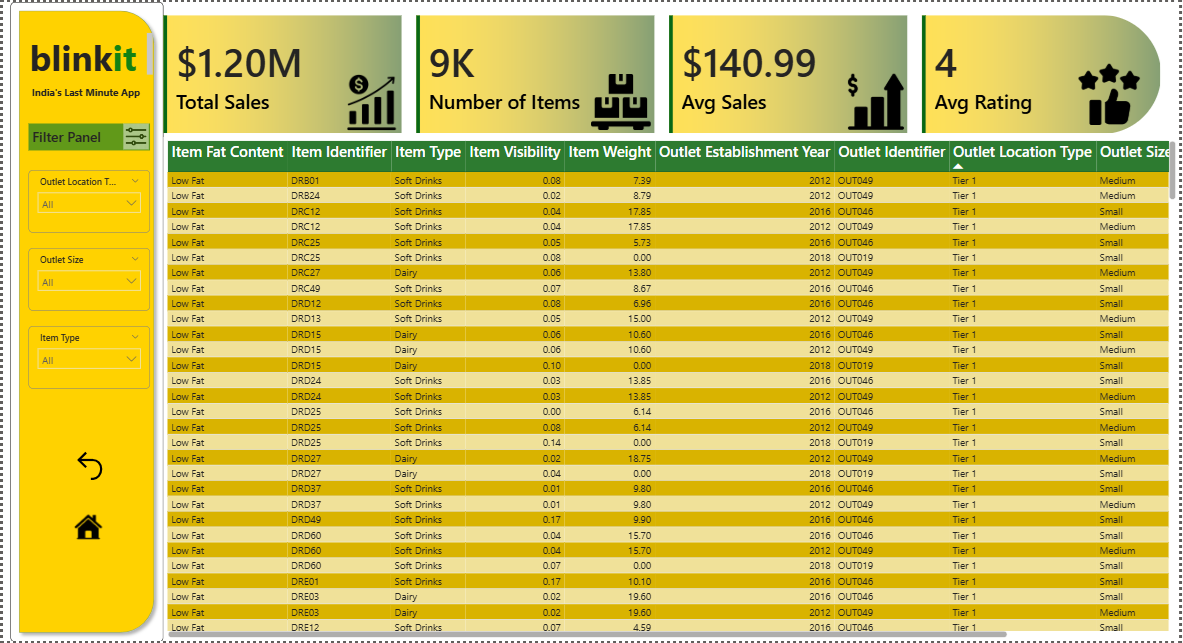

This screenshot's page, from the dashboard's own definition file:
{"tool":"powerbi","page":{"name":"Page 2","canvas":[1600,870],"ordinal":1},"visuals":[{"type":"shape","box":[9.8,0,207.8,870.6],"z":0},{"type":"textbox","box":[17.6,37.3,190.2,70.6],"z":1000},{"type":"textbox","box":[27.5,107.8,172.5,39.2],"z":2000},{"type":"slicer","fields":{"Values":["BlinkIT Grocery Data.Outlet Location Type"]},"box":[35,228.3,165,85],"z":3000},{"type":"slicer","fields":{"Values":["BlinkIT Grocery Data.Outlet Size"]},"box":[35,335,165,85],"z":4000},{"type":"slicer","fields":{"Values":["BlinkIT Grocery Data.Item Type"]},"box":[35,441.7,165,85],"z":5000},{"type":"textbox","box":[35,165,165,36.7],"z":6000},{"type":"image","box":[151.7,165,60,35],"z":7000},{"type":"actionButton","box":[64.8,605.6,105.6,50],"z":8000},{"type":"actionButton","box":[62,656,112,120],"z":9000},{"type":"cardVisual","fields":{"Data":["BlinkIT Grocery Data.Total Sales","BlinkIT Grocery Data.Number of Items","BlinkIT Grocery Data.Average Sales","BlinkIT Grocery Data.Average Rating"]},"box":[212,12,1370,172],"z":10000},{"type":"tableEx","fields":{"Values":["BlinkIT Grocery Data.Item Fat Content","BlinkIT Grocery Data.Item Identifier","BlinkIT Grocery Data.Item Type","BlinkIT Grocery Data.Item Visibility","BlinkIT Grocery Data.Item Weight","BlinkIT Grocery Data.Outlet Establishment Year","BlinkIT Grocery Data.Outlet Identifier","BlinkIT Grocery Data.Outlet Location Type","BlinkIT Grocery Data.Outlet Size","BlinkIT Grocery Data.Outlet Type","BlinkIT Grocery Data.Rating","BlinkIT Grocery Data.Sales"]},"box":[218,184,1382,686],"z":11000},{"type":"image","box":[1147.9,81.2,81.2,108.3],"z":12000},{"type":"image","box":[800,70.8,81.2,129.2],"z":13000},{"type":"image","box":[1462.5,66.7,83.3,116.7],"z":14000},{"type":"image","box":[425,97.9,154.2,77.1],"z":15000}]}

Visuals, with their boxes in screenshot pixels (x1, y1, x2, y2), scaled from the page's 1600x870 canvas onto the 1183x643 screenshot:
shape: 7:0:161:642
textbox: 13:28:154:80
textbox: 20:80:148:109
slicer - BlinkIT Grocery Data.Outlet Location Type: 26:169:148:232
slicer - BlinkIT Grocery Data.Outlet Size: 26:248:148:310
slicer - BlinkIT Grocery Data.Item Type: 26:326:148:389
textbox: 26:122:148:149
image: 112:122:157:148
actionButton: 48:448:126:485
actionButton: 46:485:129:574
cardVisual - BlinkIT Grocery Data.Total Sales x BlinkIT Grocery Data.Number of Items: 157:9:1170:136
tableEx - BlinkIT Grocery Data.Item Fat Content x BlinkIT Grocery Data.Item Identifier: 161:136:1182:642
image: 849:60:909:140
image: 592:52:652:148
image: 1081:49:1143:136
image: 314:72:428:129
